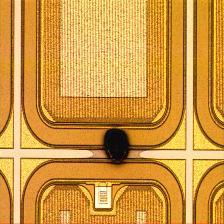PO CONTAMINATION: (94, 123, 142, 171)
